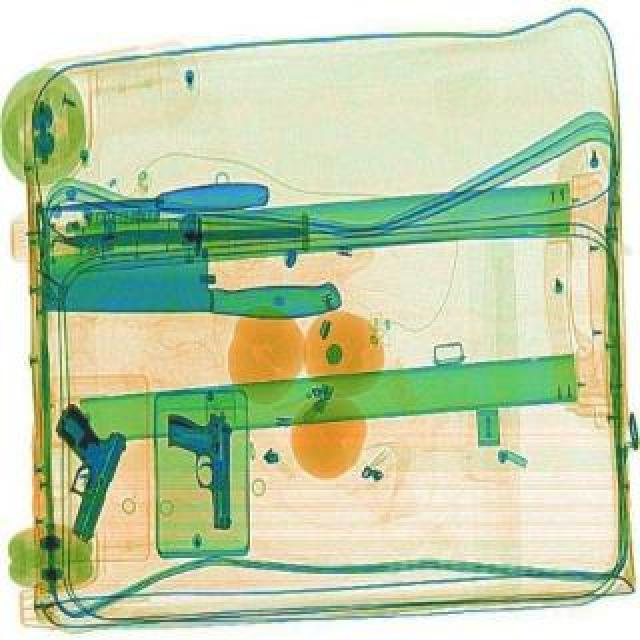gun: (18, 398, 134, 540), (164, 408, 236, 528)
knife: (38, 240, 342, 318), (40, 180, 268, 220), (58, 218, 304, 246)
